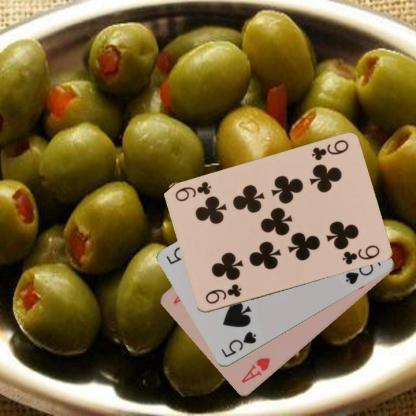5s: (218, 329, 258, 359)
9c: (308, 137, 350, 162), (202, 281, 243, 306)
Ah: (239, 355, 272, 385)
